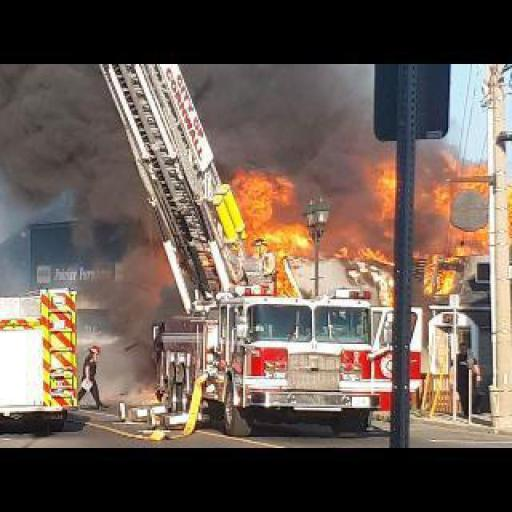smoke: (214, 154, 504, 292), (88, 229, 163, 400)
